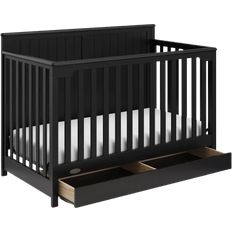crib: (0, 25, 230, 206)
